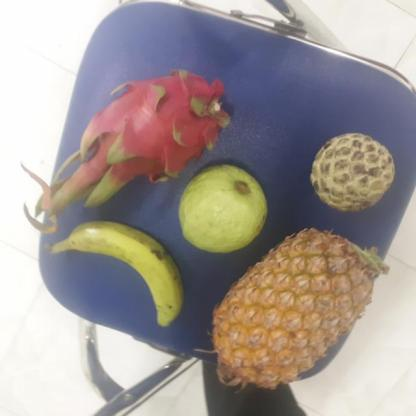annona: (308, 132, 395, 212)
guava: (175, 162, 268, 250)
pineapple: (210, 230, 379, 389)
pitaya: (85, 67, 224, 189)
